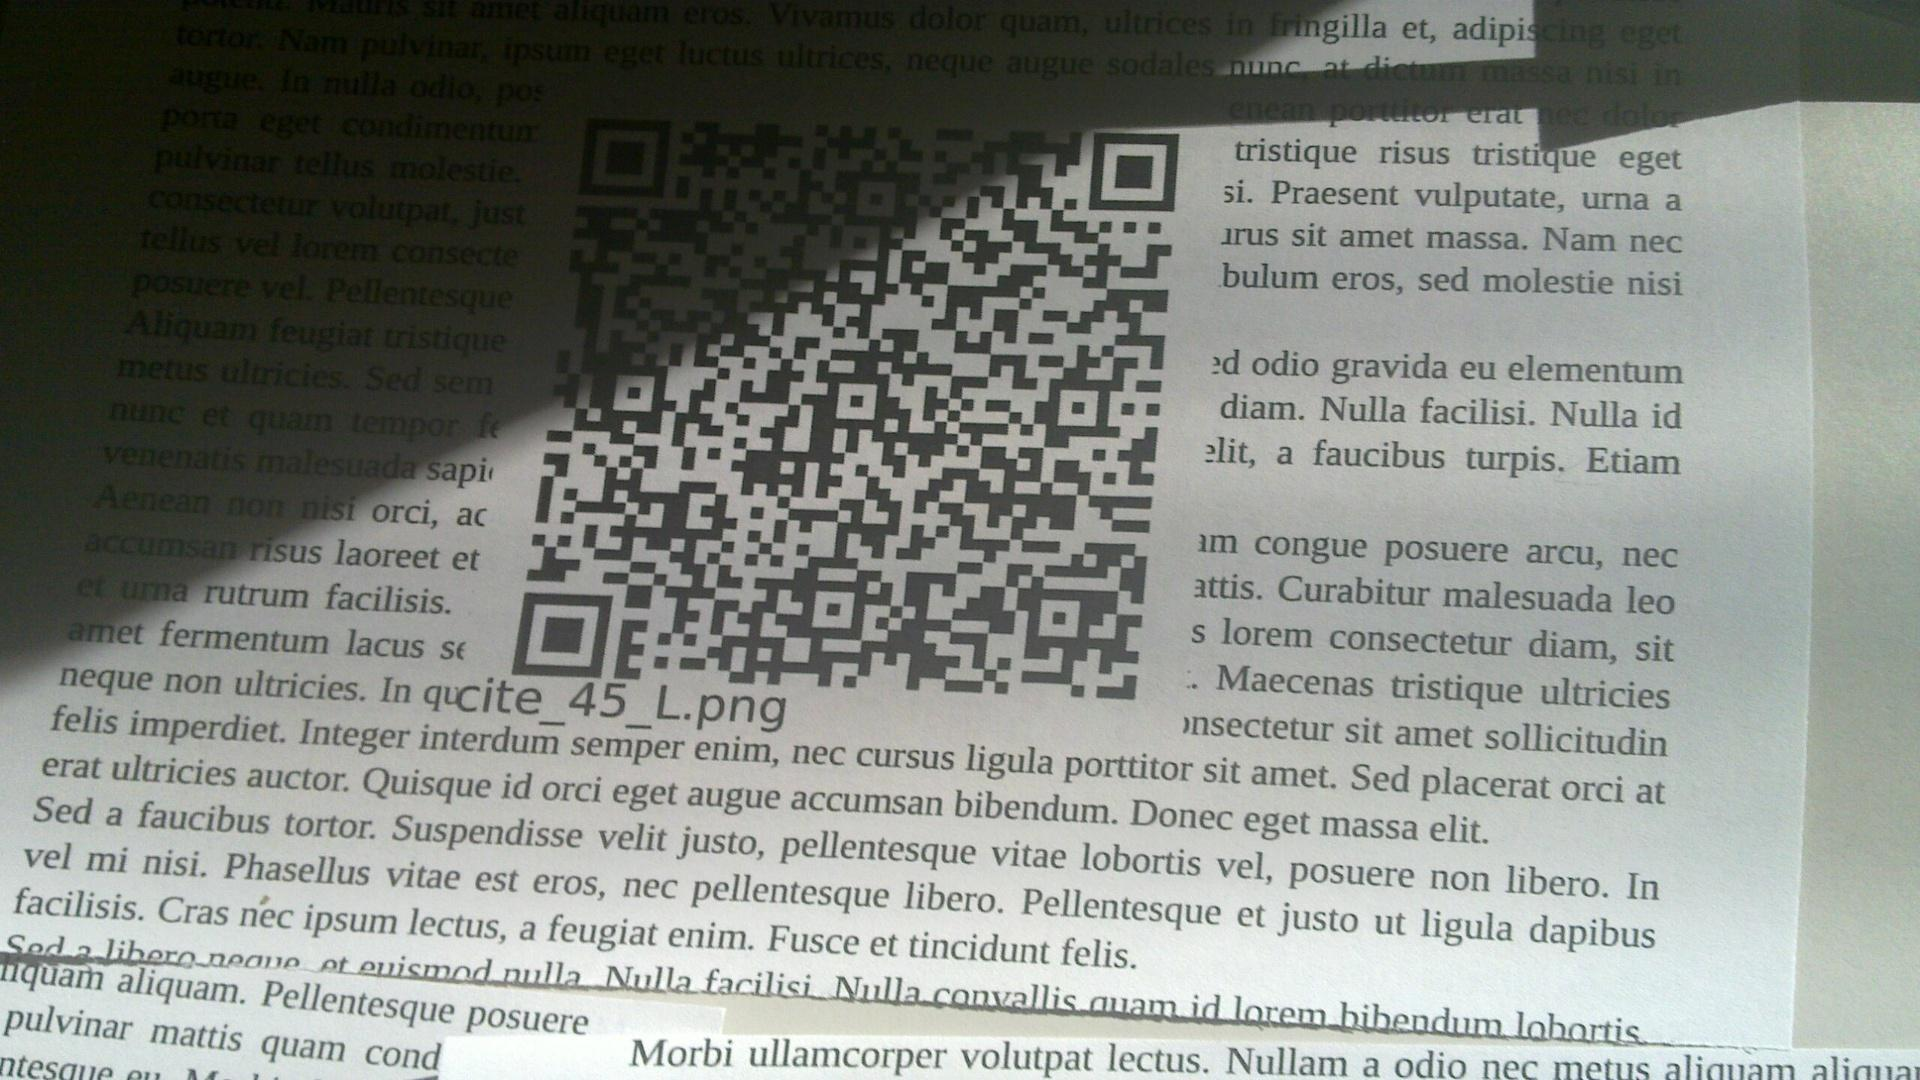Finder pattern: (512, 588, 615, 683), (572, 115, 676, 206), (1085, 127, 1185, 218)
